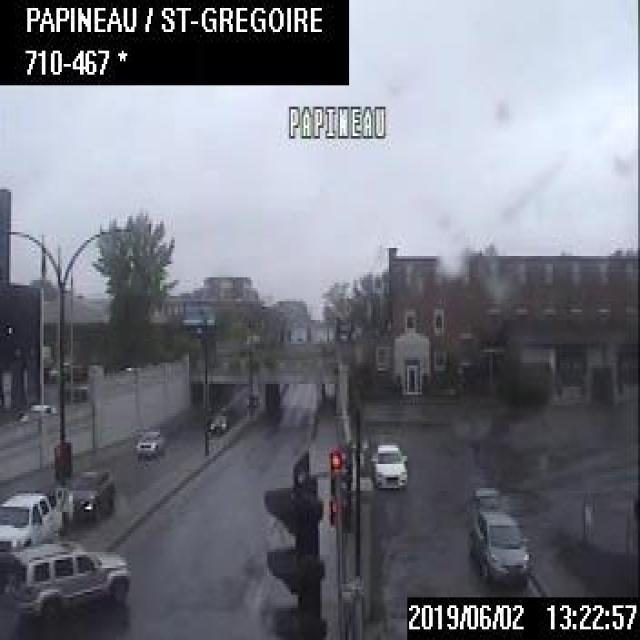vehicle: (0, 536, 129, 621), (466, 486, 533, 587), (0, 488, 62, 549), (66, 464, 114, 523), (371, 438, 408, 491), (134, 429, 164, 456), (19, 402, 54, 420), (207, 411, 229, 432)
